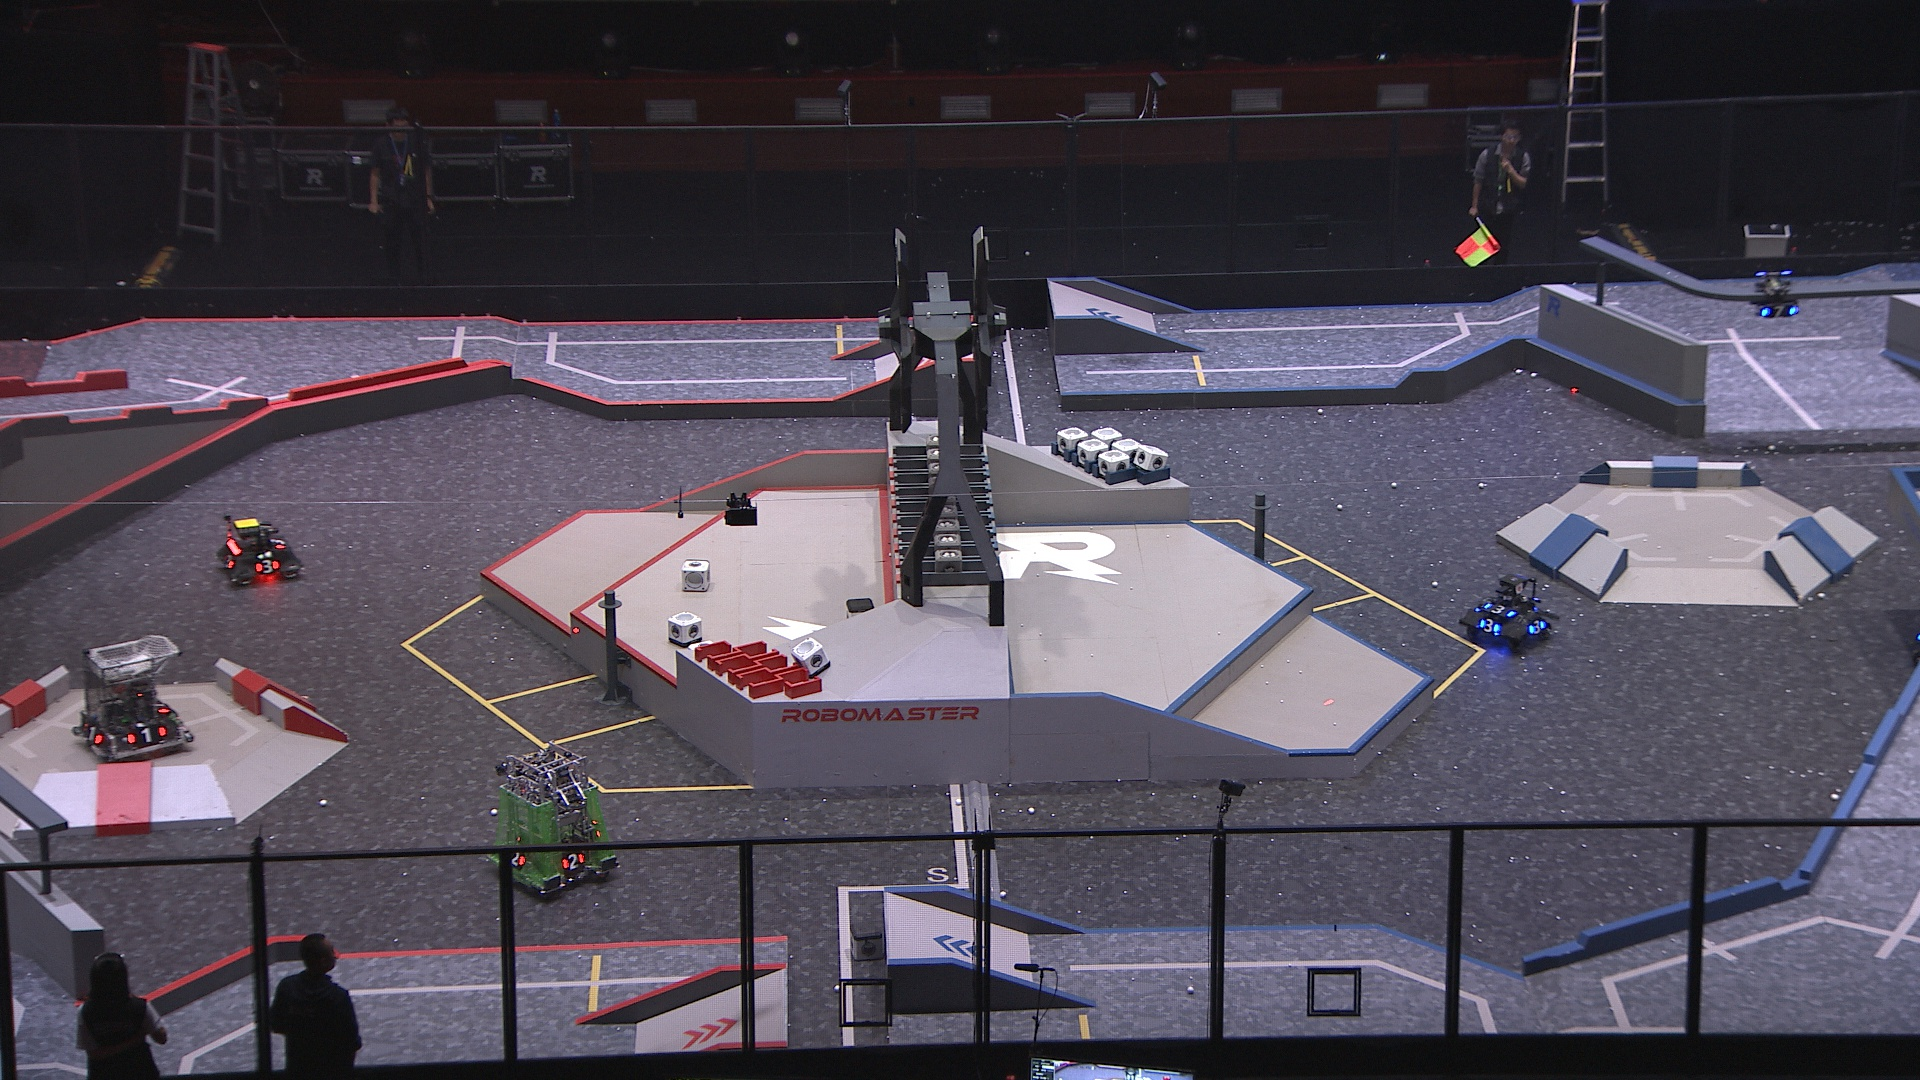armor: (124, 725, 167, 744), (1482, 600, 1516, 618), (79, 719, 103, 744), (560, 851, 585, 872), (1760, 305, 1797, 318), (256, 556, 281, 575), (1477, 617, 1503, 633), (1524, 618, 1548, 636), (266, 533, 287, 551), (148, 698, 171, 713), (509, 849, 526, 868), (222, 553, 237, 571)
car: (481, 740, 618, 901), (71, 633, 193, 760), (1461, 572, 1556, 651), (214, 514, 305, 588)
watcher: (1753, 272, 1803, 319)
